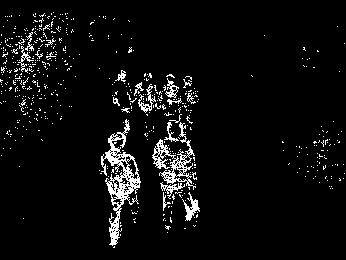person: (160, 119, 202, 231), (102, 128, 140, 248), (112, 68, 134, 128), (184, 72, 210, 120), (140, 70, 158, 128), (165, 69, 181, 119)
